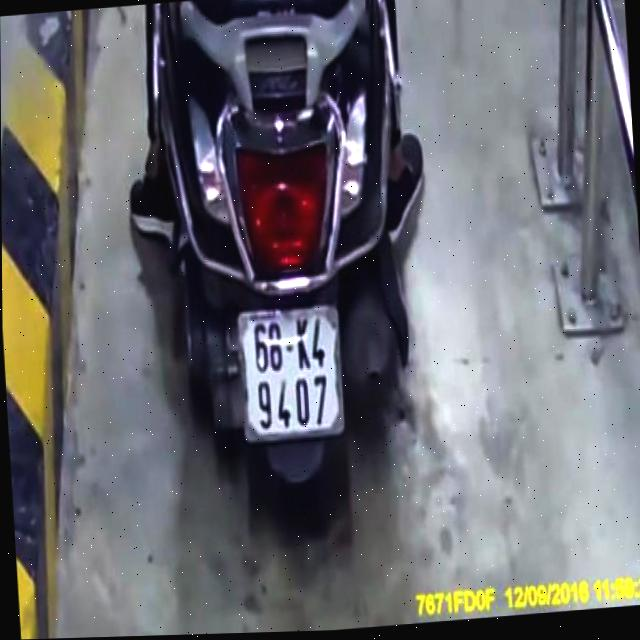motorcycle: (117, 0, 433, 569)
plate: (230, 295, 355, 452)
